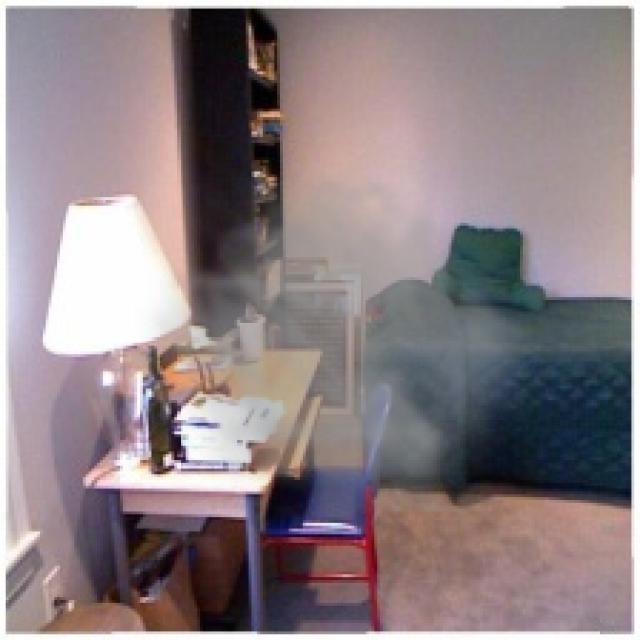smoke: (134, 132, 546, 512)
